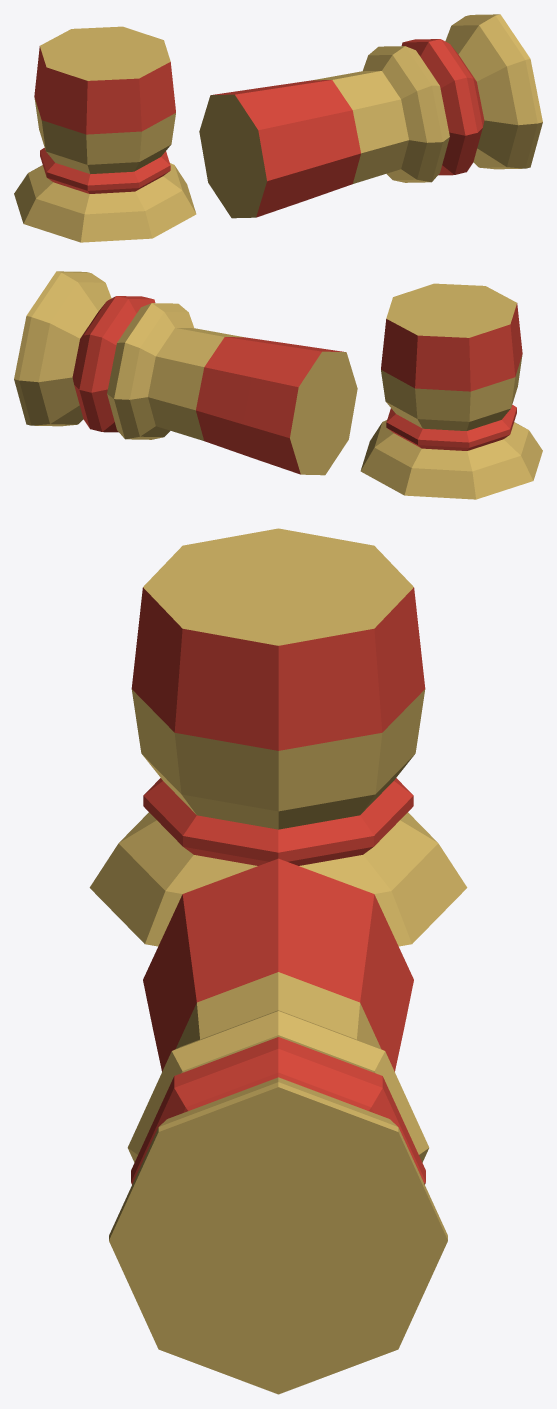
File: Pillar2_Broken.fbx
3 views of the same model, one above another, from view 1: azimuth 30°, elevation 25°; view 2: azimuth 150°, elevation 25°; view 3: azimuth 270°, elevation 25° (orthographic). The views are drawn at different scales.
Visible parts, largest first — view 1: Pillar2_Broken2, Pillar2_Broken; view 2: Pillar2_Broken2, Pillar2_Broken; view 3: Pillar2_Broken2, Pillar2_Broken.
Boxes of the visible parts, box(x1,y1,x2,y2) form: Pillar2_Broken2: box(199, 14, 542, 218); Pillar2_Broken: box(14, 26, 196, 242); Pillar2_Broken2: box(14, 271, 357, 475); Pillar2_Broken: box(360, 283, 542, 499); Pillar2_Broken2: box(109, 858, 447, 1394); Pillar2_Broken: box(89, 528, 467, 946).
Size of the model in its own units: 628 by 266 by 215.
